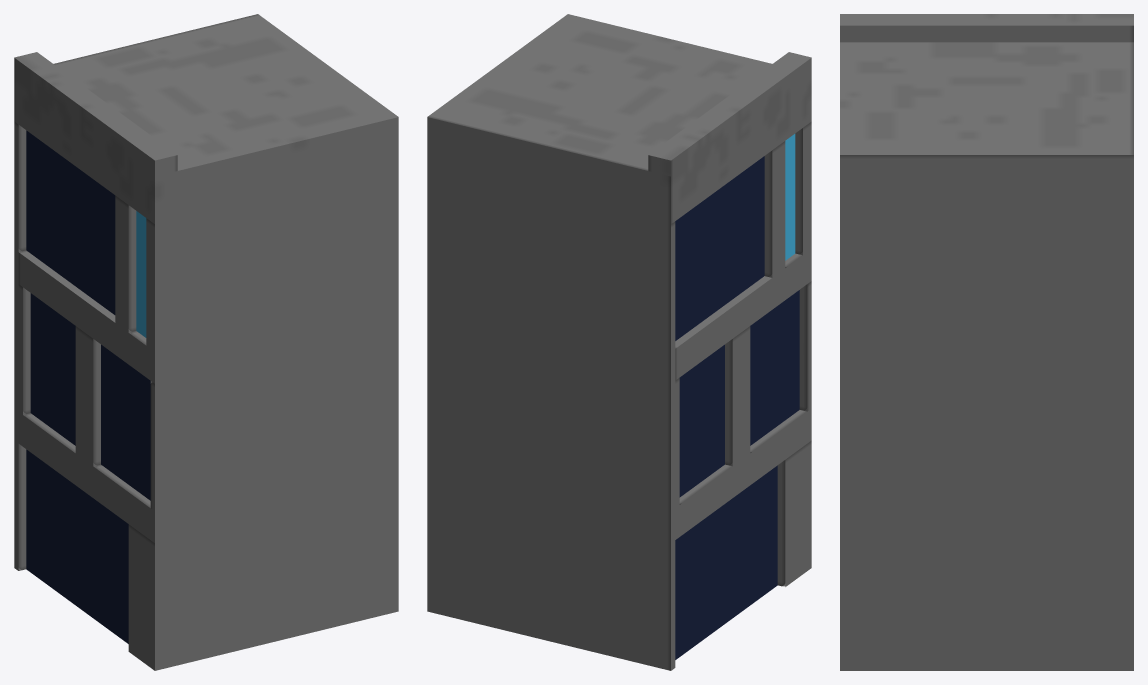
The model's file is B_M_SRODEK_T_P.dae.
The picture shows the model from 3 angles, left to right: view 1: azimuth 30°, elevation 25°; view 2: azimuth 150°, elevation 25°; view 3: azimuth 270°, elevation 25°; orthographic projection. The views are drawn at different scales.
Visible parts, largest first — view 1: Content; view 2: Content; view 3: Content.
Part boxes in pixels (bbox=[...]): Content: bbox=[14, 14, 398, 670]; Content: bbox=[427, 14, 811, 670]; Content: bbox=[840, 14, 1133, 670].
Size of the model in its own units: 32 by 64 by 32.
1 material, 1 textured.
